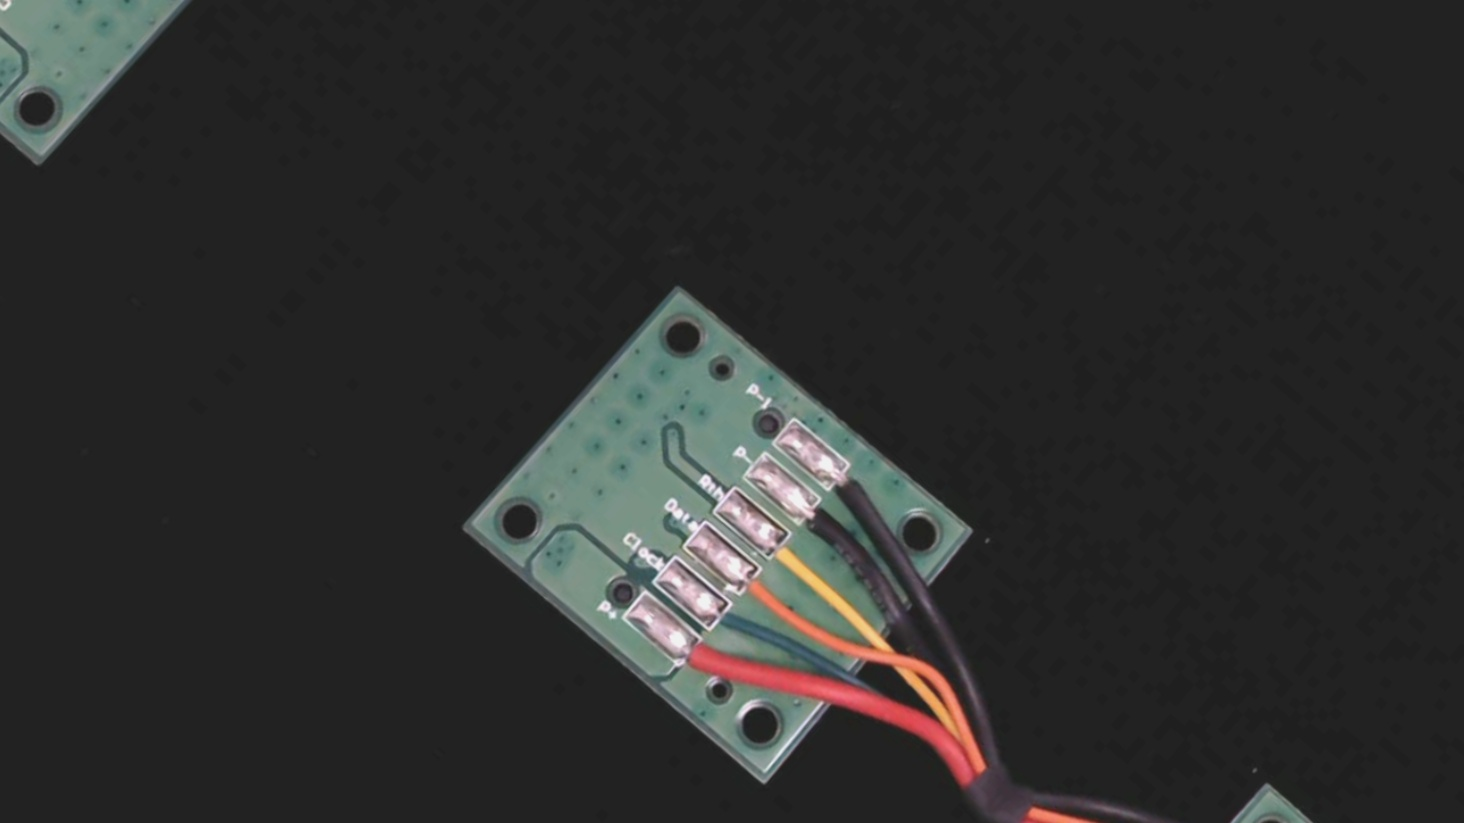Black: (782, 482, 875, 571)
Black1: (812, 449, 899, 531)
Green: (694, 586, 776, 664)
Orange: (723, 556, 813, 642)
Red: (662, 626, 752, 712)
Yellow: (751, 519, 845, 607)
